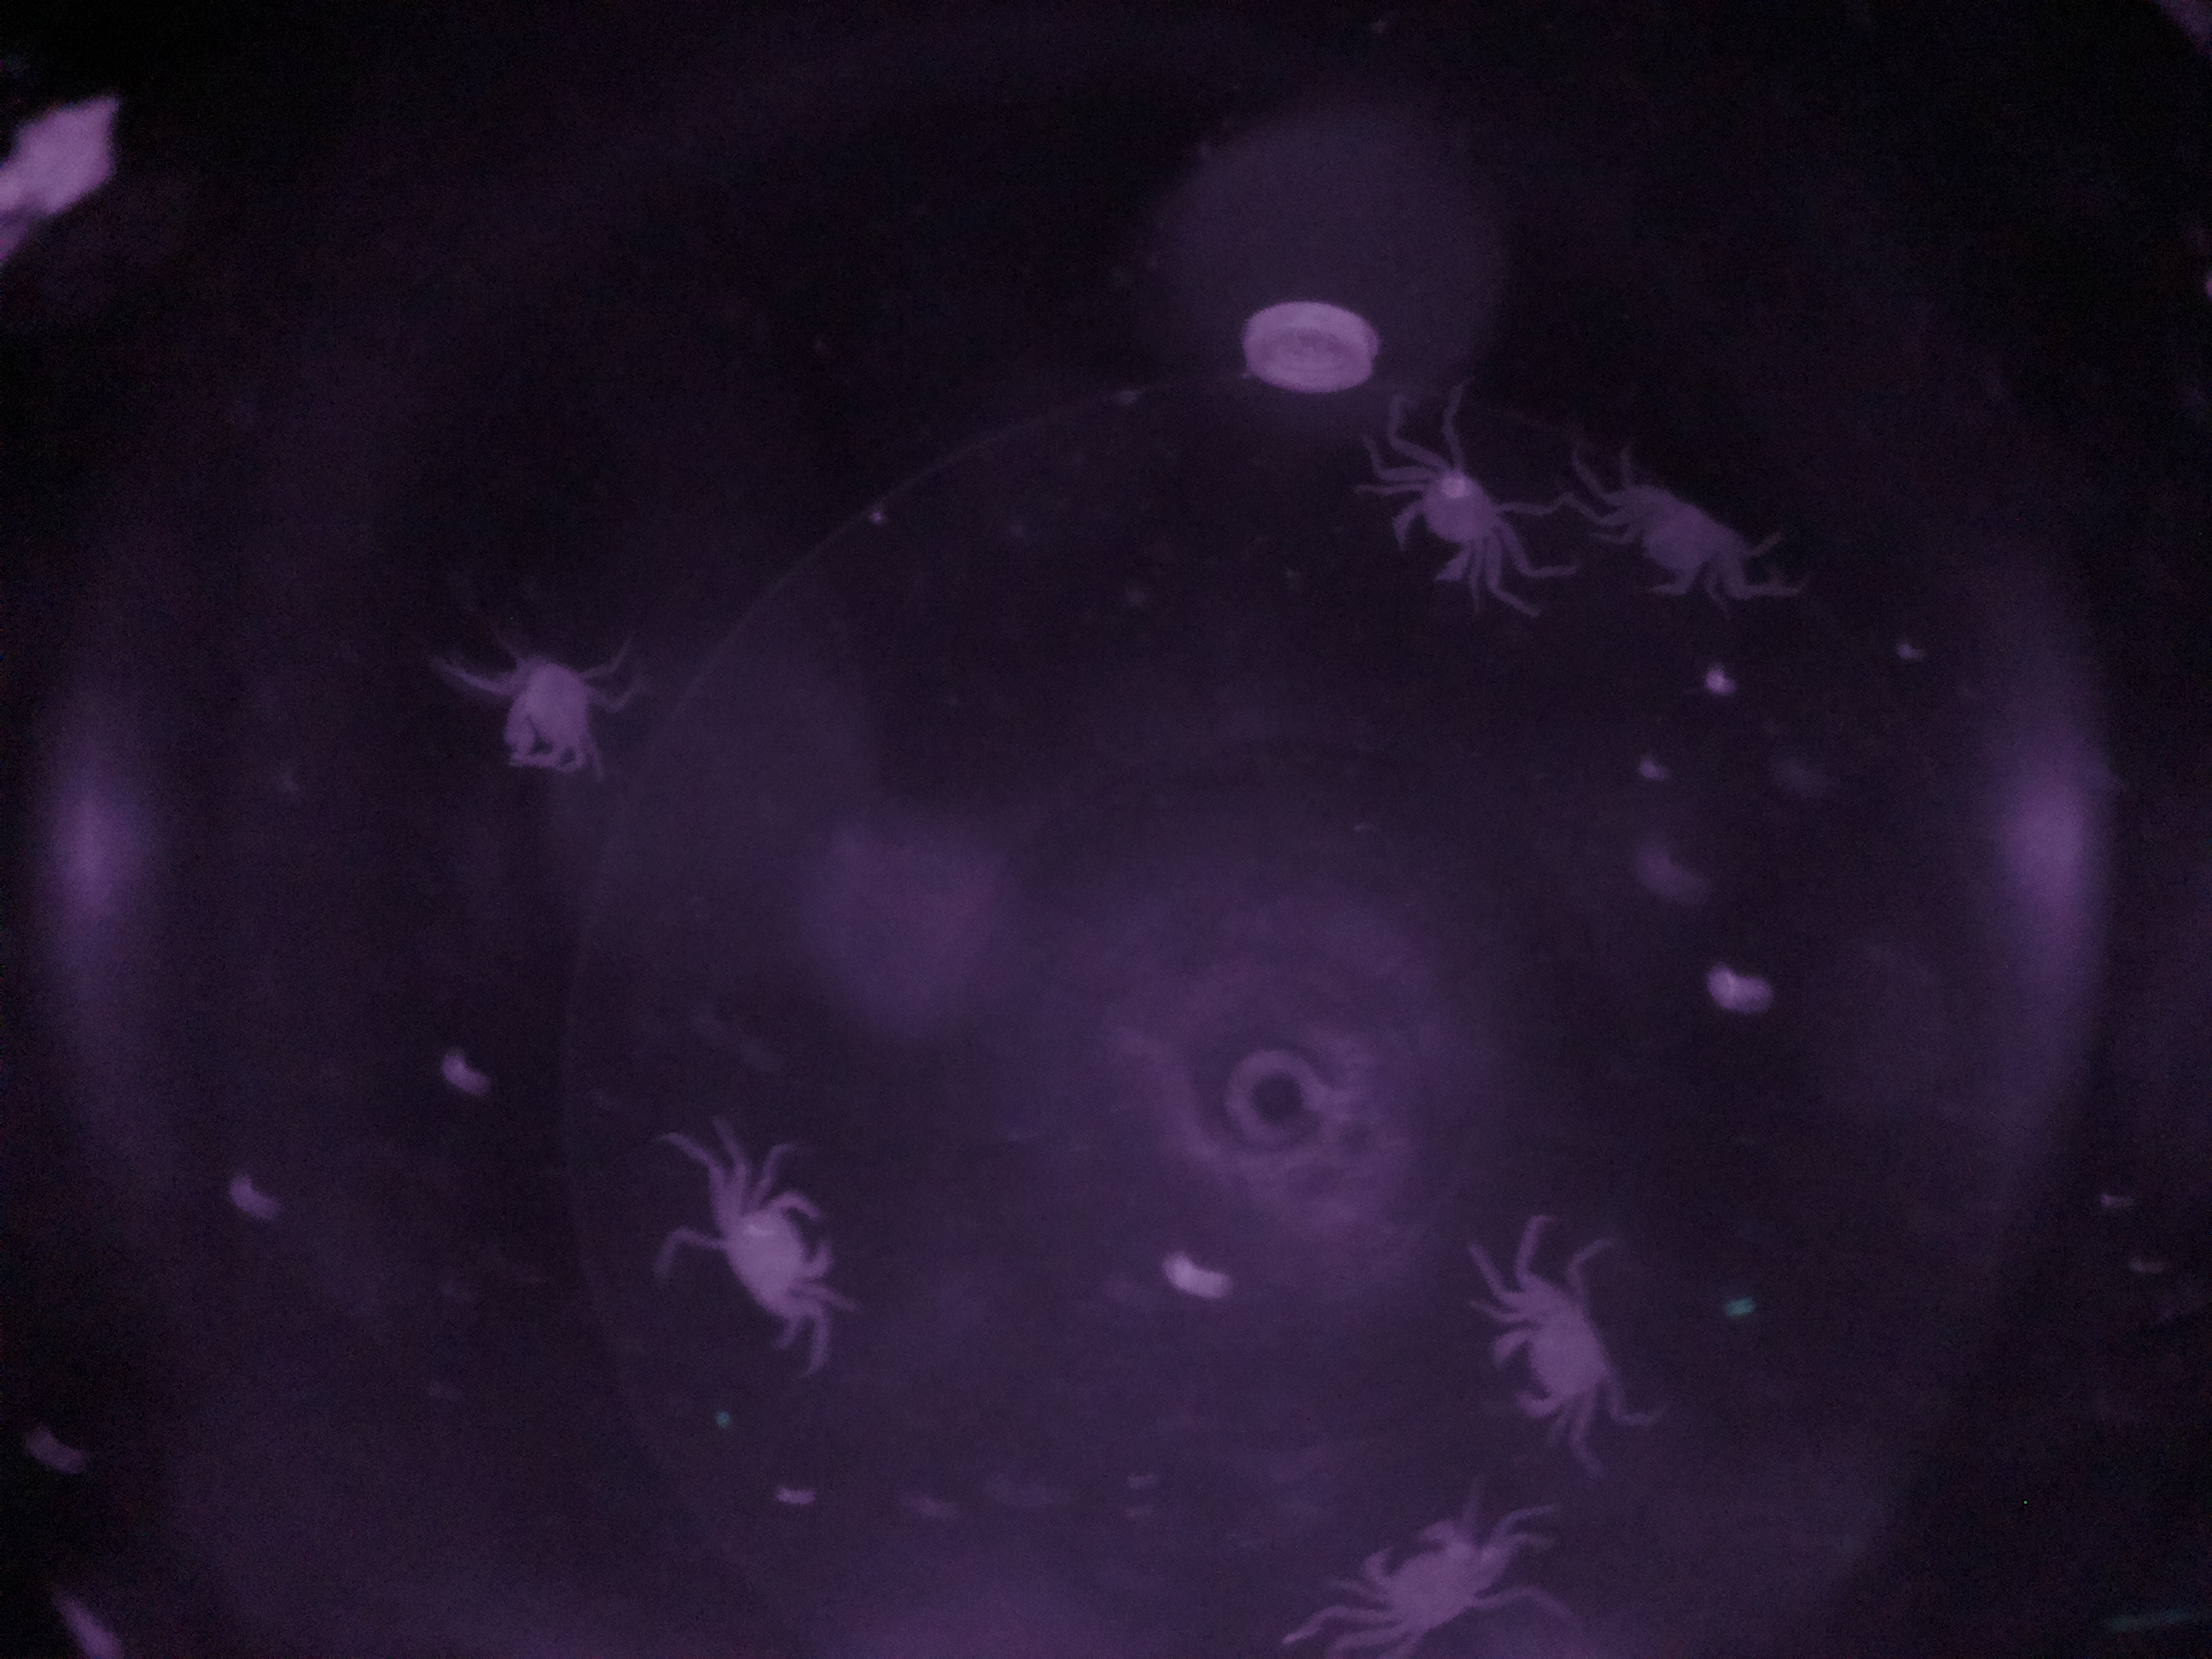Crab: (690, 1164, 852, 1344), (1463, 1284, 1632, 1452), (1336, 1493, 1503, 1659), (1376, 429, 1521, 612)
